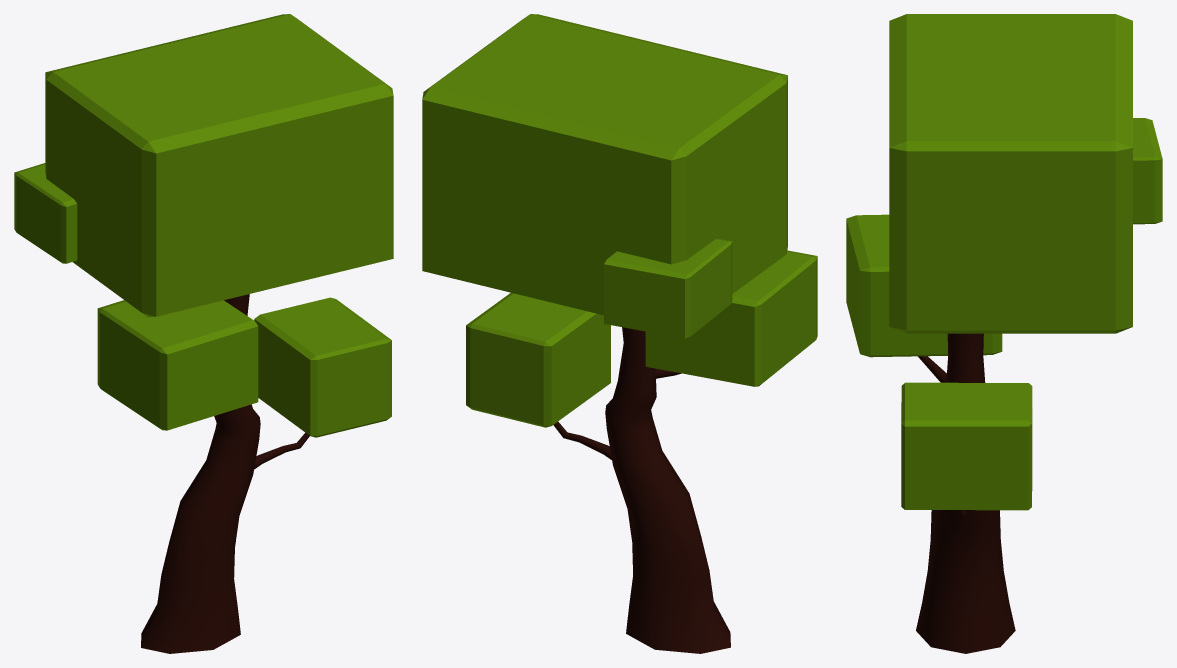
Rendered from LH_Tree02.FBX.
3 views of the same model, side by side, from view 1: azimuth 30°, elevation 25°; view 2: azimuth 150°, elevation 25°; view 3: azimuth 270°, elevation 25° (orthographic). The views are drawn at different scales.
Parts seen in each view (by area): view 1: T1; view 2: T1; view 3: T1.
Boxes of the visible parts, left/top/right/bottom form: T1: left=14, top=14, right=393, bottom=653; T1: left=422, top=14, right=817, bottom=653; T1: left=846, top=14, right=1162, bottom=653.
Size of the model in its own units: 57.06 by 108 by 53.22.
